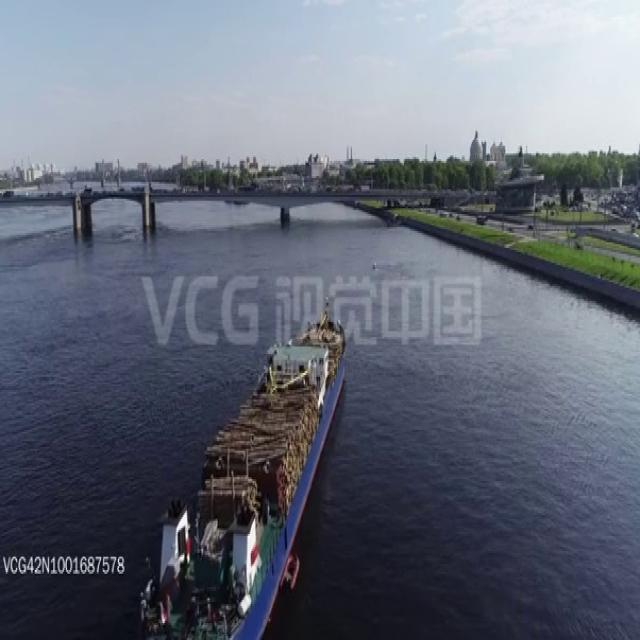cargoship: (136, 299, 350, 640)
